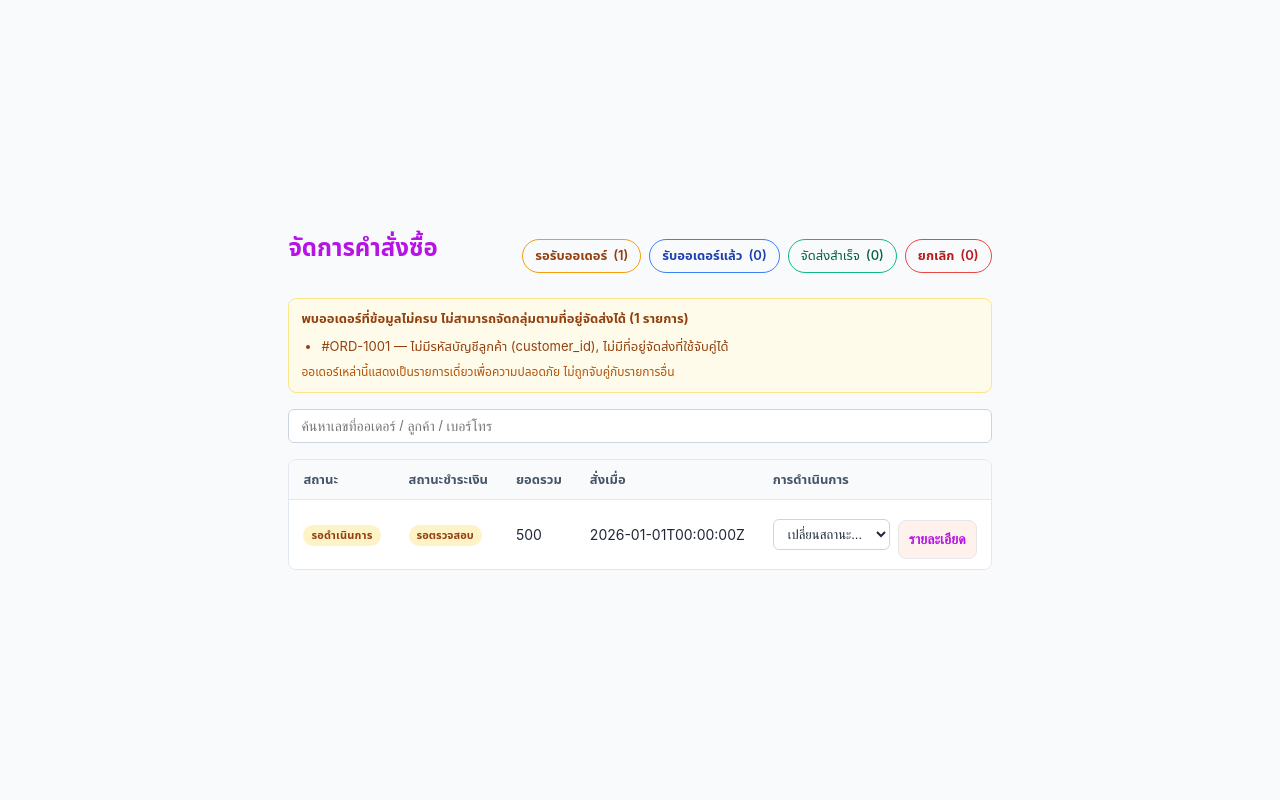
Test case: AdminOrders — order detail modal › closes the modal when clicking the backdrop
The width and height of the screenshot is (1280, 800).
Click the button "รายละเอียด".
click(937, 540)  # box [898,520,977,559]
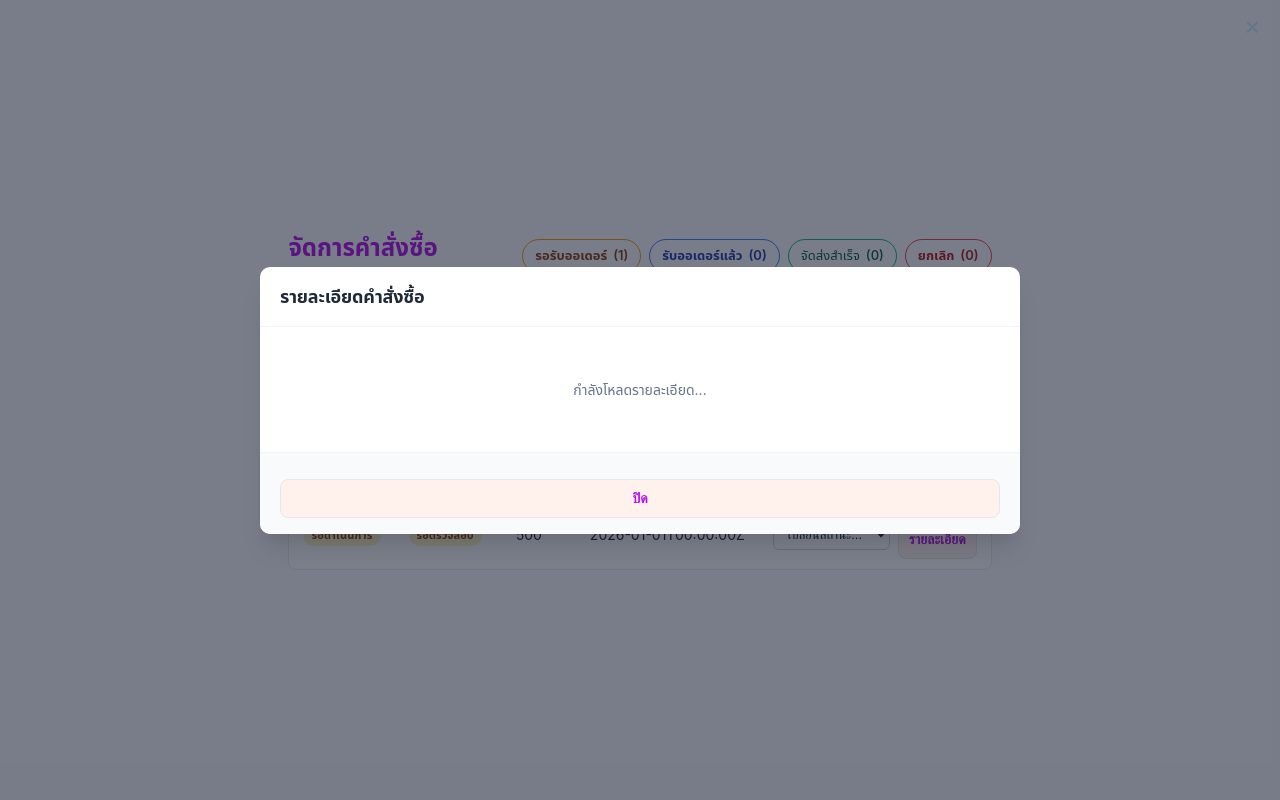
Expected: the dialog is shown
Click the dialog.
click(77, 400)  # box [0,0,1279,799]
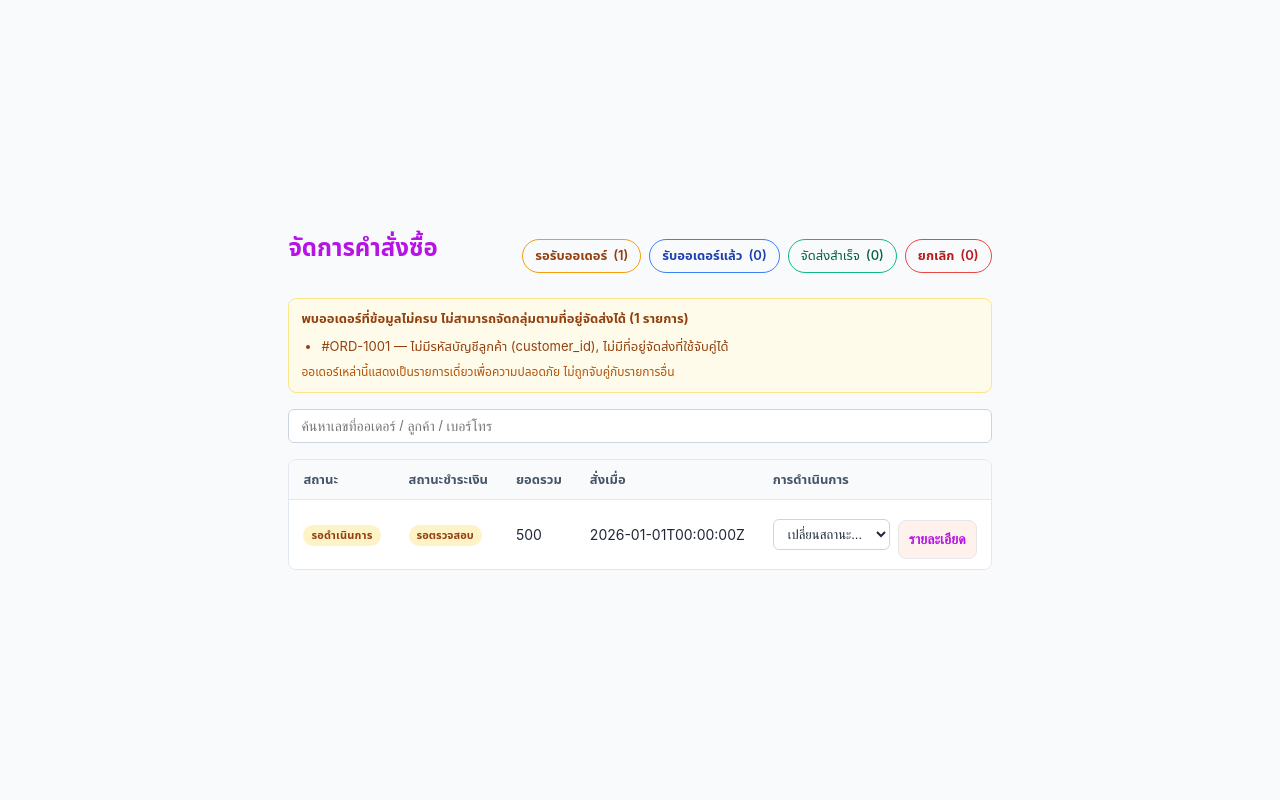
Expected: the dialog is gone
